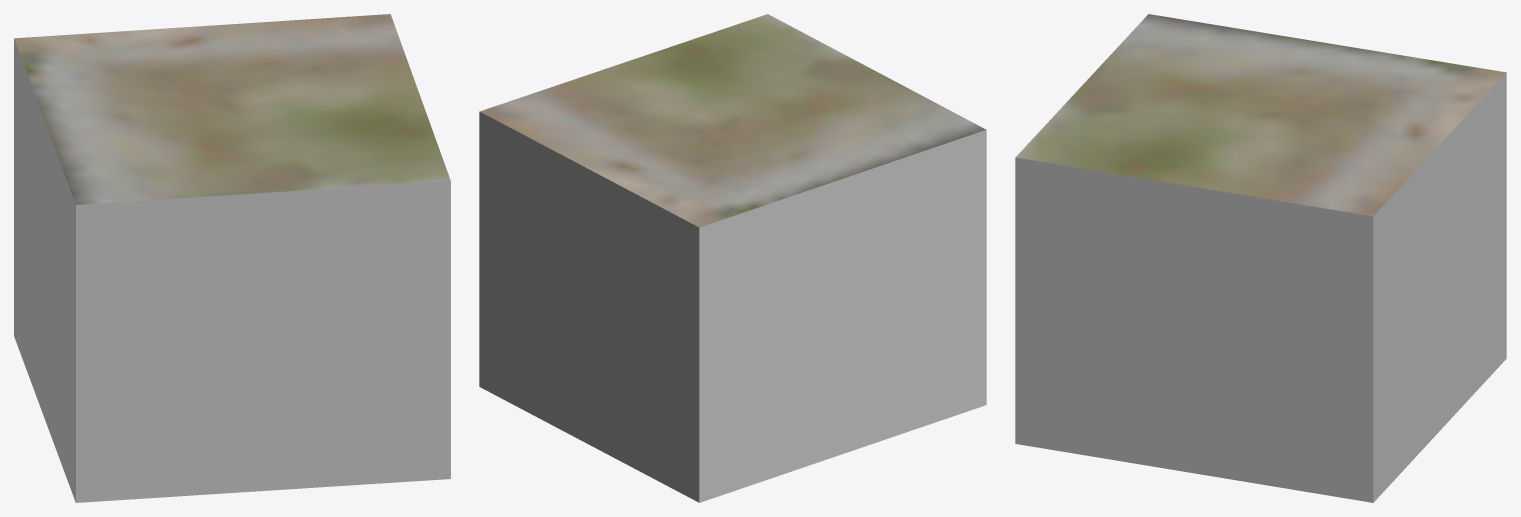
The model's file is DEBW_001000hrFVt.gltf.
The picture shows the model from 3 angles, left to right: view 1: azimuth 30°, elevation 25°; view 2: azimuth 150°, elevation 25°; view 3: azimuth 270°, elevation 25°; orthographic projection. The views are drawn at different scales.
Parts seen in each view (by area): view 1: Z_UP; view 2: Z_UP; view 3: Z_UP.
Part boxes in pixels (bbox=[...]): Z_UP: bbox=[14, 14, 450, 502]; Z_UP: bbox=[479, 14, 986, 502]; Z_UP: bbox=[1015, 14, 1506, 502].
Size of the model in its own units: 5.69 by 3.75 by 5.83.
2 materials, 1 textured.
